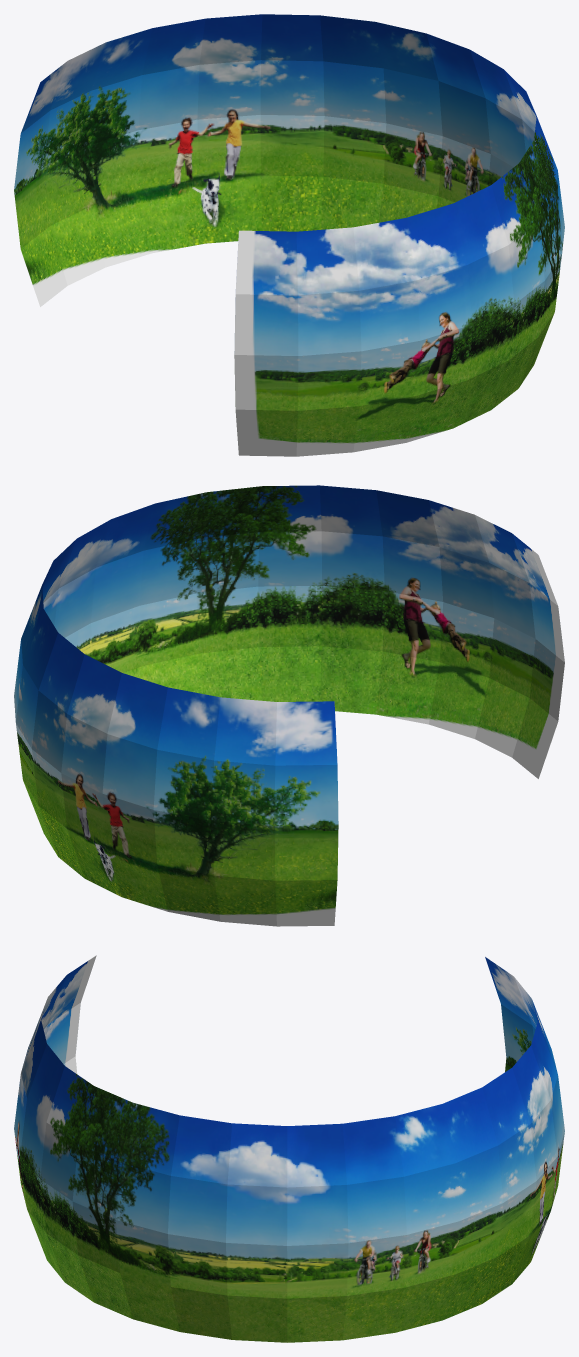
The model's file is Panorama2_v01.dae.
The picture shows the model from 3 angles, top to bottom: view 1: azimuth 30°, elevation 25°; view 2: azimuth 150°, elevation 25°; view 3: azimuth 270°, elevation 25°; orthographic projection. The views are drawn at different scales.
Visible parts, largest first — view 1: ID9; view 2: ID9; view 3: ID9.
Boxes of the visible parts, x1,y1,x2,y2 form: ID9: (14, 14, 564, 456); ID9: (14, 485, 564, 926); ID9: (14, 955, 564, 1342).
Size of the model in its own units: 7668 by 9408 by 4082.
Materials: 1 (1 with a texture image).
